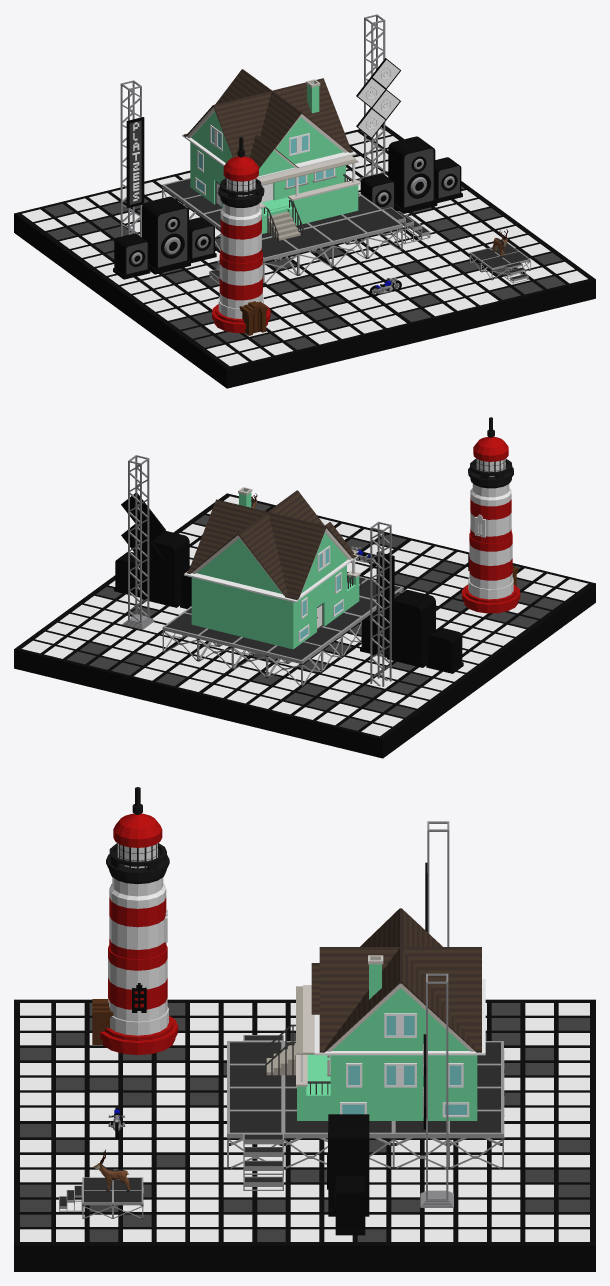
The picture shows the model from 3 angles, top to bottom: view 1: azimuth 30°, elevation 25°; view 2: azimuth 150°, elevation 25°; view 3: azimuth 270°, elevation 25°; orthographic projection. The views are drawn at different scales.
Parts seen in each view (by area): view 1: Cube.008, Cube.352, OBJRANDOM_LIGHTHOUSE; view 2: Cube.008, Cube.352, OBJRANDOM_LIGHTHOUSE; view 3: Cube.008, Cube.352, OBJRANDOM_LIGHTHOUSE.
Boxes of the visible parts, x1,y1,x2,y2 form: Cube.008: [14, 14, 595, 388]; Cube.352: [182, 69, 360, 241]; OBJRANDOM_LIGHTHOUSE: [212, 137, 270, 335]; Cube.008: [14, 455, 595, 758]; Cube.352: [184, 487, 361, 649]; OBJRANDOM_LIGHTHOUSE: [461, 417, 520, 613]; Cube.008: [14, 821, 595, 1271]; Cube.352: [264, 908, 485, 1120]; OBJRANDOM_LIGHTHOUSE: [92, 787, 178, 1054].
Bounding box in the file's own units: 4000 × 2206 × 4000.
41 materials, 2 textured.
